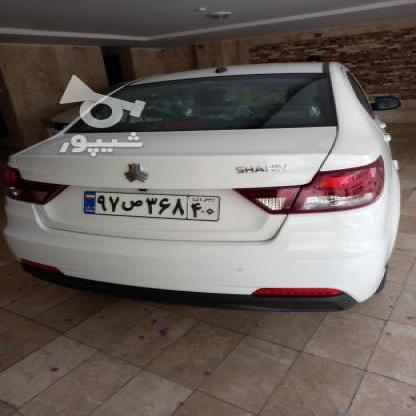licence: (83, 188, 217, 223)
